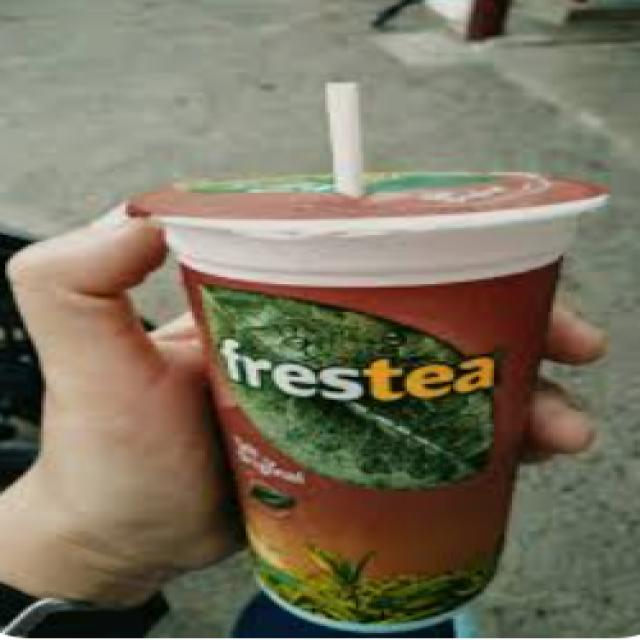GelasPlastik: (139, 158, 598, 626)
